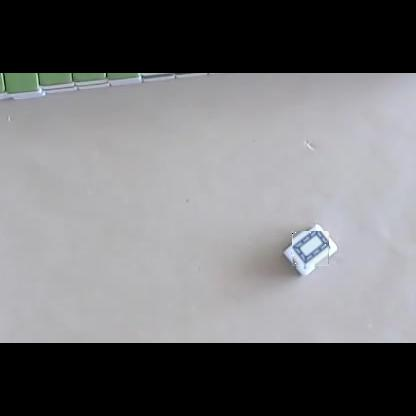5z: (292, 232, 329, 269)
